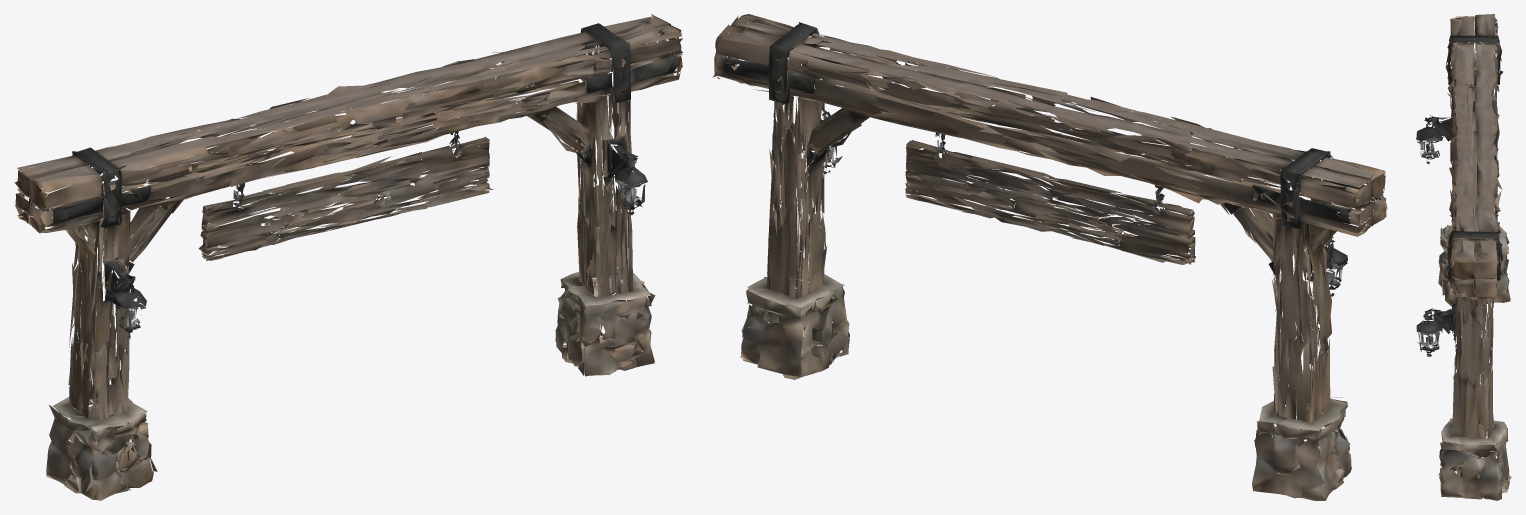
File: frontier_arch.glb
The picture shows the model from 3 angles, left to right: view 1: azimuth 30°, elevation 25°; view 2: azimuth 150°, elevation 25°; view 3: azimuth 270°, elevation 25°; orthographic projection. The views are drawn at different scales.
Visible parts, largest first — view 1: LO.001; view 2: LO.001; view 3: LO.001.
Boxes of the visible parts, x1=… form: LO.001: x1=14, y1=14, x2=682, y2=500; LO.001: x1=713, y1=14, x2=1387, y2=500; LO.001: x1=1416, y1=14, x2=1511, y2=500.
Size of the model in its own units: 18.11 by 8.66 by 2.93.
Materials: 1 (1 with a texture image).
